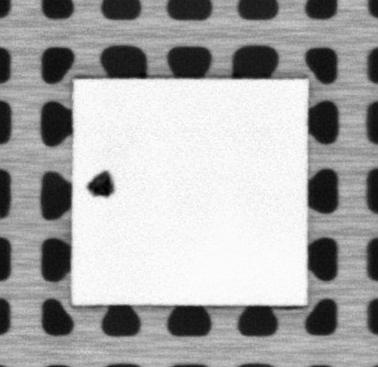DIE_INK: (85, 169, 117, 197)
